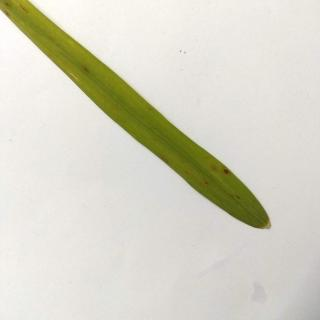bercak-Cokelat: (221, 166, 231, 179)
